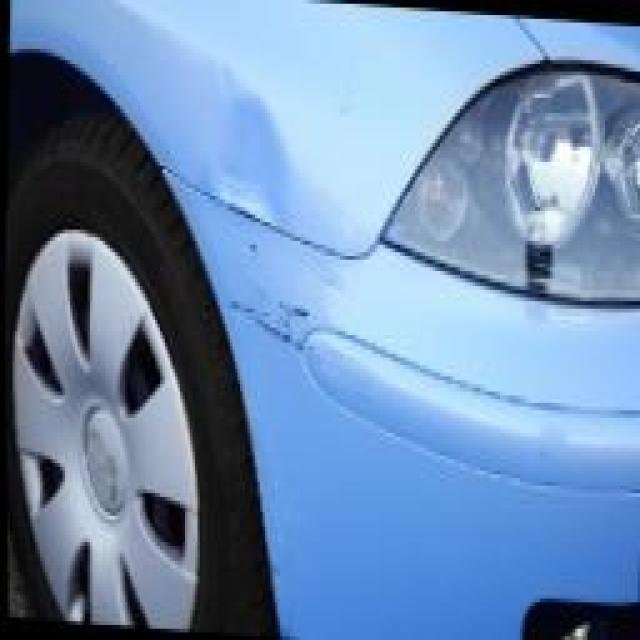Bumper: (180, 188, 597, 640)
